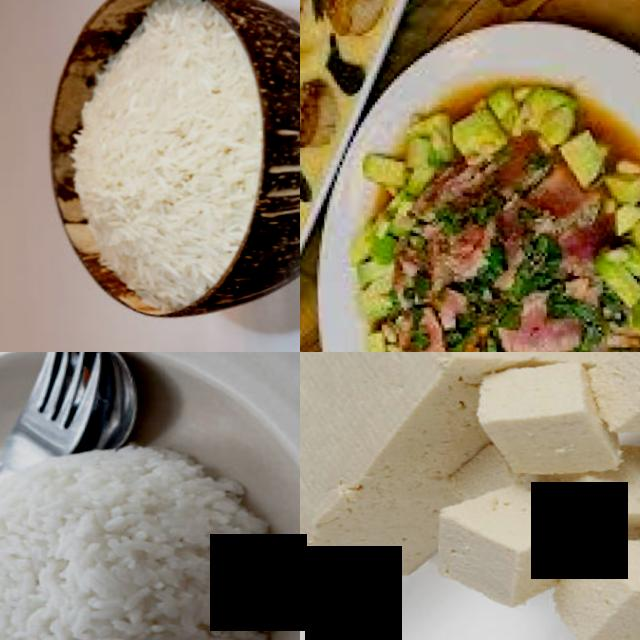tofu: (300, 352, 460, 602), (428, 465, 572, 612), (471, 352, 631, 482), (555, 512, 640, 640), (583, 352, 640, 442)
white rice: (47, 0, 290, 315), (0, 407, 300, 640)
